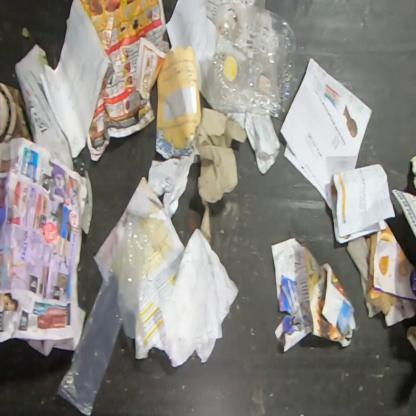cardboard: (0, 82, 35, 145)
rigid_plastic: (210, 0, 298, 119)
soft_plastic: (56, 216, 156, 416)
